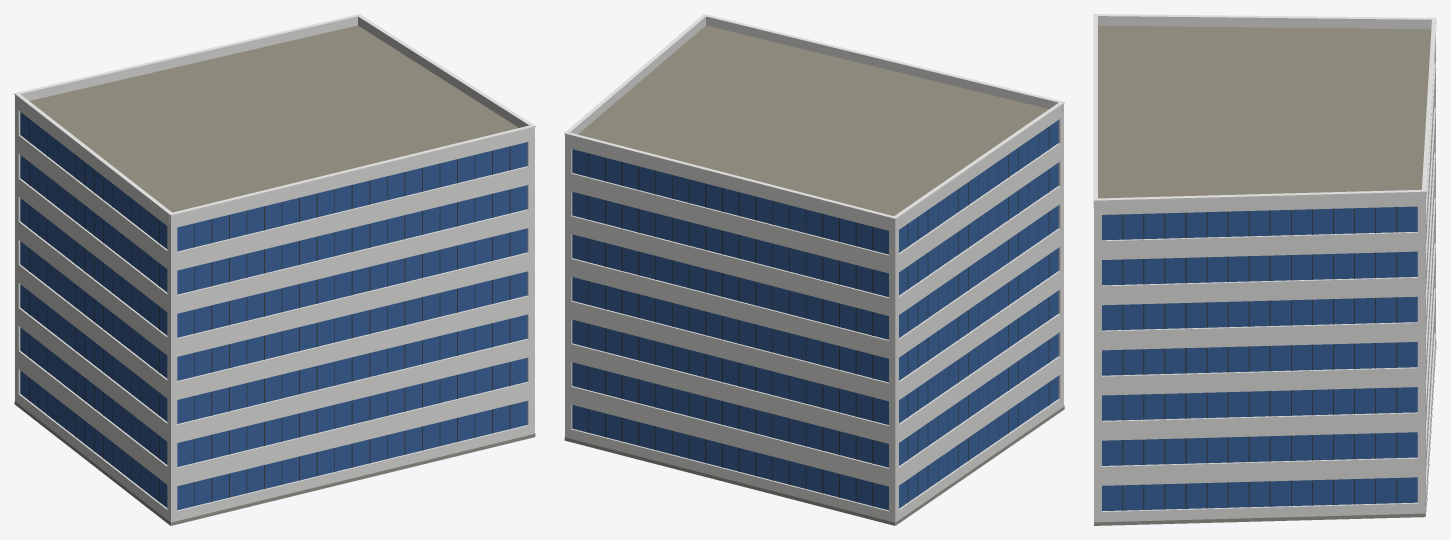
The picture shows the model from 3 angles, left to right: view 1: azimuth 30°, elevation 25°; view 2: azimuth 150°, elevation 25°; view 3: azimuth 270°, elevation 25°; orthographic projection. The views are drawn at different scales.
Visible parts, largest first — view 1: hospitalCancer__glass, hospitalCancer__wall, hospitalCancer__roof, hospitalCancer__parapet, hospitalCancer__frame, hospitalCancer__trim, hospitalCancer__base; view 2: hospitalCancer__glass, hospitalCancer__wall, hospitalCancer__roof, hospitalCancer__parapet, hospitalCancer__frame, hospitalCancer__trim, hospitalCancer__base; view 3: hospitalCancer__glass, hospitalCancer__roof, hospitalCancer__wall, hospitalCancer__parapet, hospitalCancer__frame, hospitalCancer__trim, hospitalCancer__base.
Part boxes in pixels (<box>): hospitalCancer__glass: <box>20,112,527,510</box>; hospitalCancer__wall: <box>15,102,534,525</box>; hospitalCancer__roof: <box>29,25,518,212</box>; hospitalCancer__parapet: <box>15,16,534,223</box>; hospitalCancer__frame: <box>29,119,510,506</box>; hospitalCancer__trim: <box>14,14,535,215</box>; hospitalCancer__base: <box>14,401,535,525</box>; hospitalCancer__glass: <box>572,120,1058,510</box>; hospitalCancer__wall: <box>565,111,1063,525</box>; hospitalCancer__roof: <box>578,25,1048,215</box>; hospitalCancer__parapet: <box>565,16,1063,227</box>; hospitalCancer__frame: <box>588,126,1049,506</box>; hospitalCancer__trim: <box>564,14,1064,219</box>; hospitalCancer__base: <box>564,406,1064,525</box>; hospitalCancer__glass: <box>1102,206,1417,510</box>; hospitalCancer__roof: <box>1098,25,1431,525</box>; hospitalCancer__wall: <box>1094,35,1435,522</box>; hospitalCancer__parapet: <box>1093,16,1431,209</box>; hospitalCancer__frame: <box>1122,193,1431,510</box>; hospitalCancer__trim: <box>1093,14,1436,201</box>; hospitalCancer__base: <box>1094,341,1436,525</box>.
Bounding box in the file's own units: 33.68 × 27.42 × 26.21.
